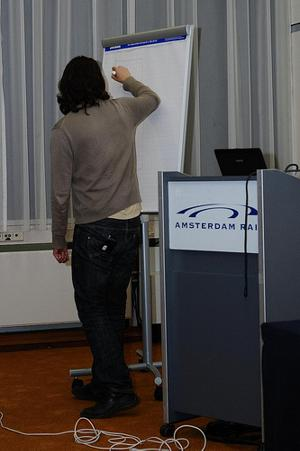person: (51, 55, 164, 419)
